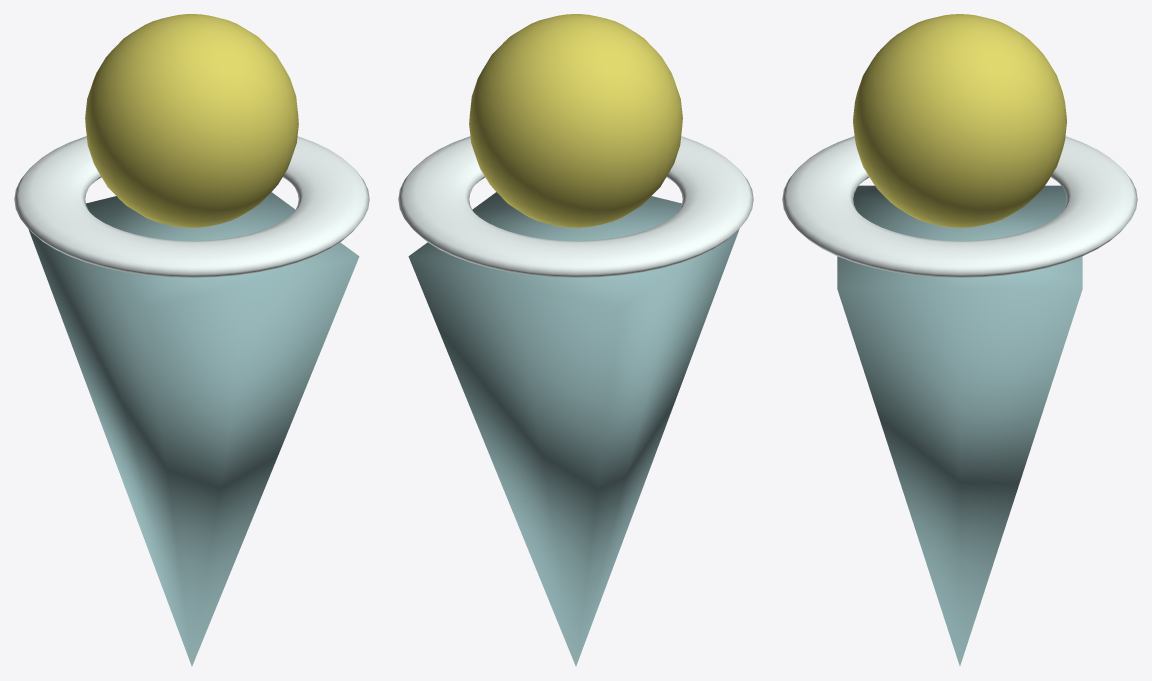
Rendered from Player.gltf.
3 views of the same model, side by side, from view 1: azimuth 30°, elevation 25°; view 2: azimuth 150°, elevation 25°; view 3: azimuth 270°, elevation 25° (orthographic).
Visible parts, largest first — view 1: 立方体; view 2: 立方体; view 3: 立方体.
Part boxes in pixels (x1,y1,x2,y2): 立方体: (14,14,369,666); 立方体: (398,14,753,666); 立方体: (782,14,1137,665).
Size of the model in its own units: 3.3 by 6.59 by 3.3.
1 material, 1 textured.
